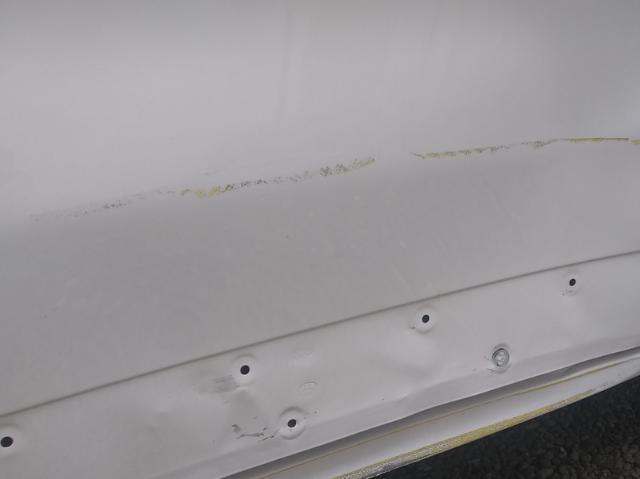Door: (21, 83, 640, 309)
